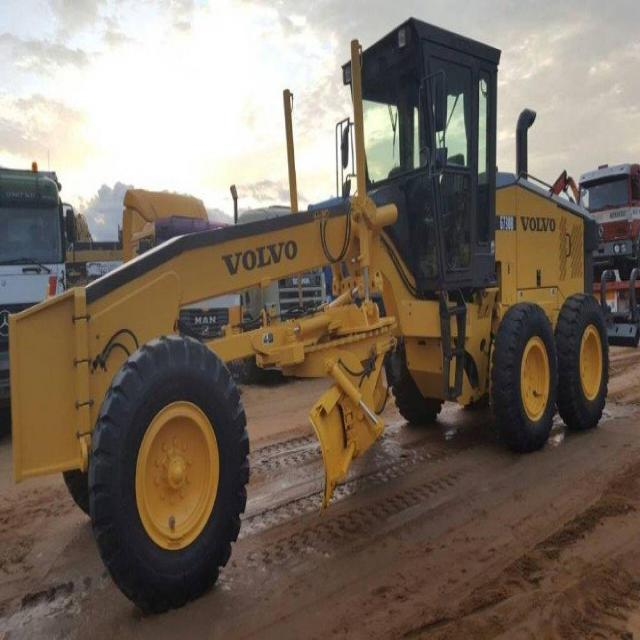Grader: (12, 16, 609, 616)
